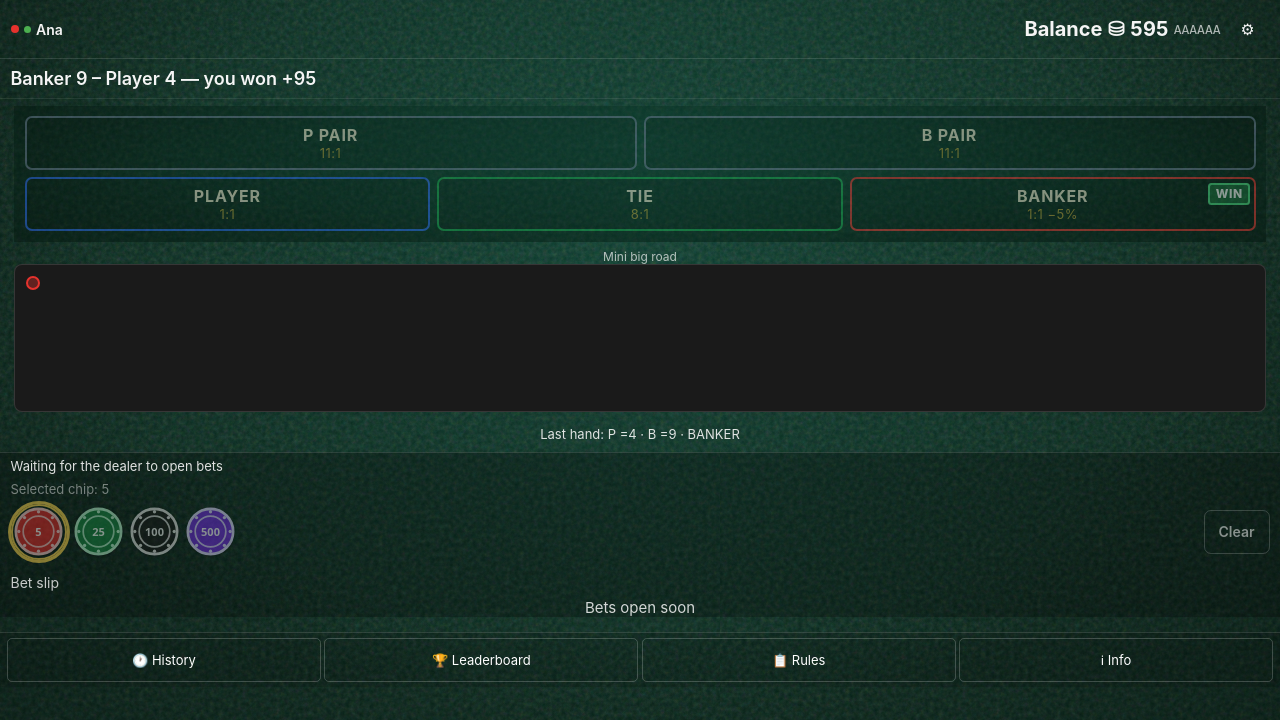
Test: PlayerShell › history tab shows outcome and profit after settlement
Click the tab "🕐 History" at [164, 660], box [7, 638, 321, 682]
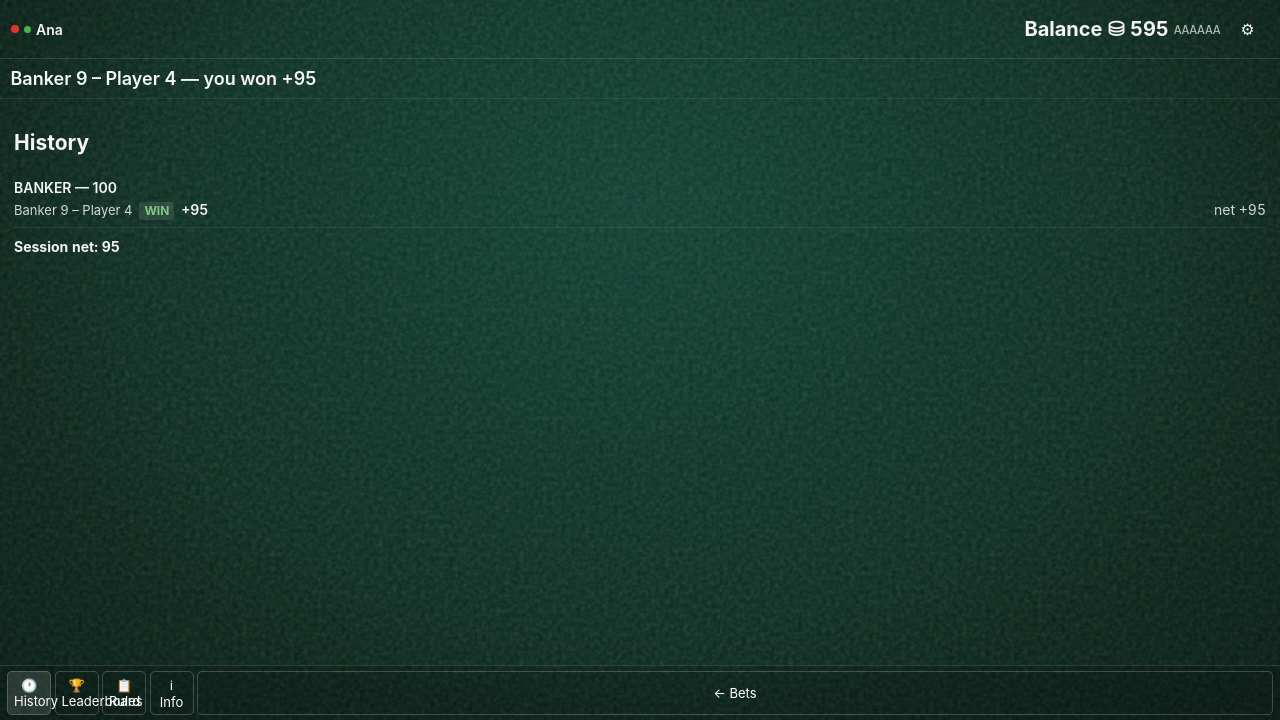
Expected: the text with test id "player-history-outcome-b1" reads "win", [144, 203, 169, 218]
Now the text with test id "player-history-profit-b1" reads "+95", box [181, 201, 208, 218]
Now the text with test id "player-history-running-net-b1" shows "+95", box [1214, 201, 1266, 218]
